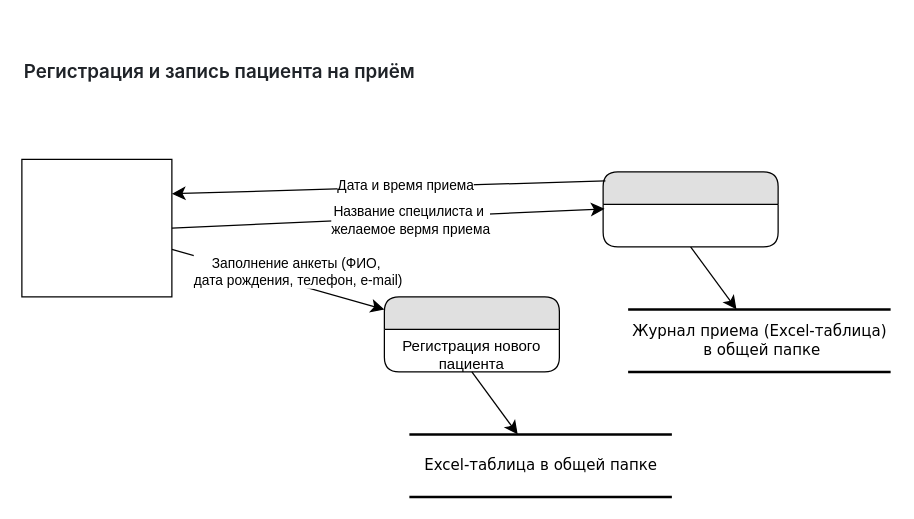
The diagram is 914 pixels wide and 519 high, and some of its shapes have lost their labels. The centre of each missing label's shape, as x and y in pixels:
"Запись на прием" goes at pixel 690 209.
"Пациент" goes at pixel 96 227.
